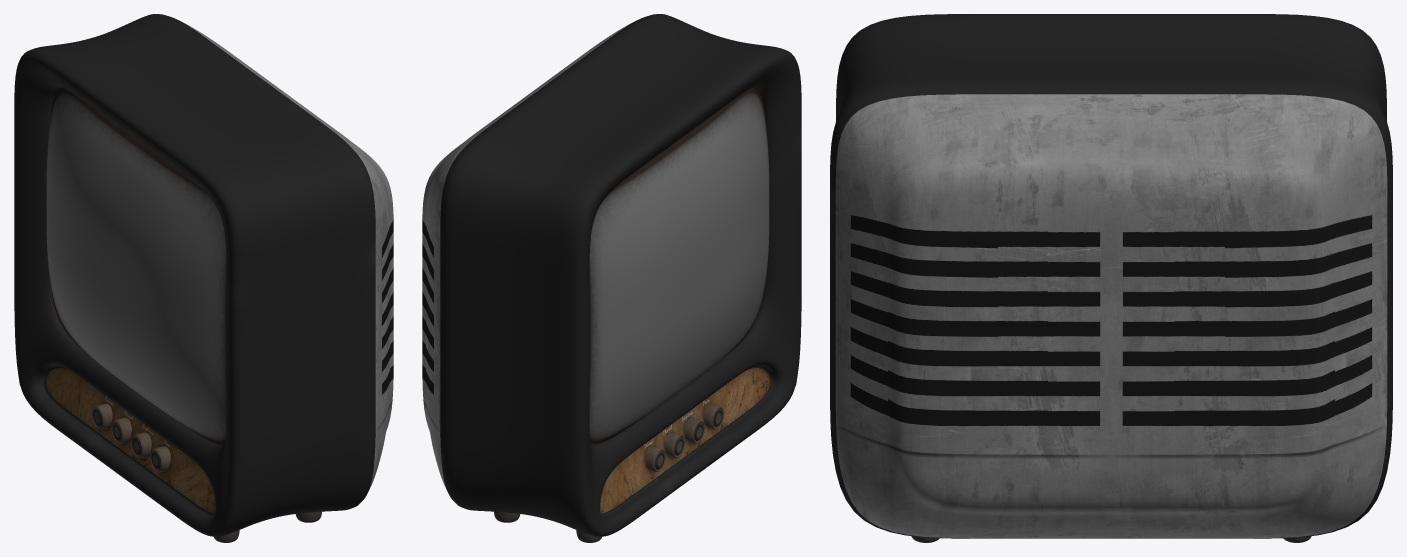
The model's file is Old TV.fbx.
The picture shows the model from 3 angles, left to right: view 1: azimuth 30°, elevation 25°; view 2: azimuth 150°, elevation 25°; view 3: azimuth 270°, elevation 25°; orthographic projection. The views are drawn at different scales.
Parts seen in each view (by area): view 1: Old TV; view 2: Old TV; view 3: Old TV.
Boxes of the visible parts, x1=… form: Old TV: x1=14, y1=14, x2=393, y2=542; Old TV: x1=422, y1=14, x2=801, y2=542; Old TV: x1=830, y1=14, x2=1392, y2=542.
Size of the model in its own units: 168 by 298 by 327.
